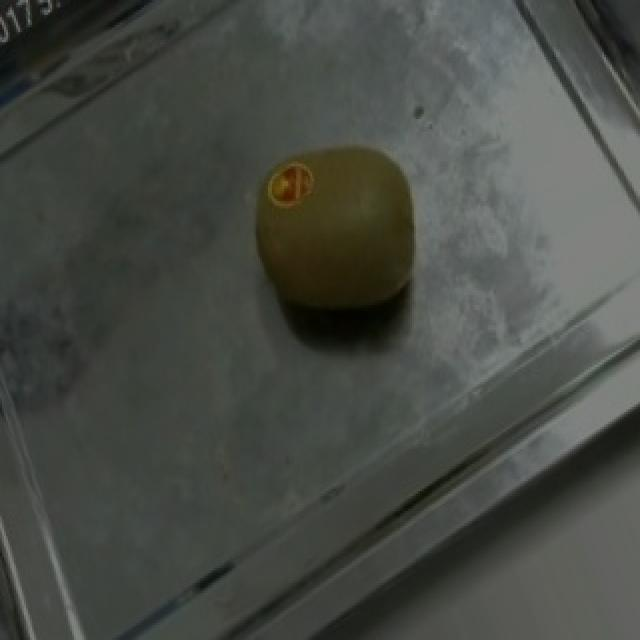Fruit: (216, 109, 458, 375)
